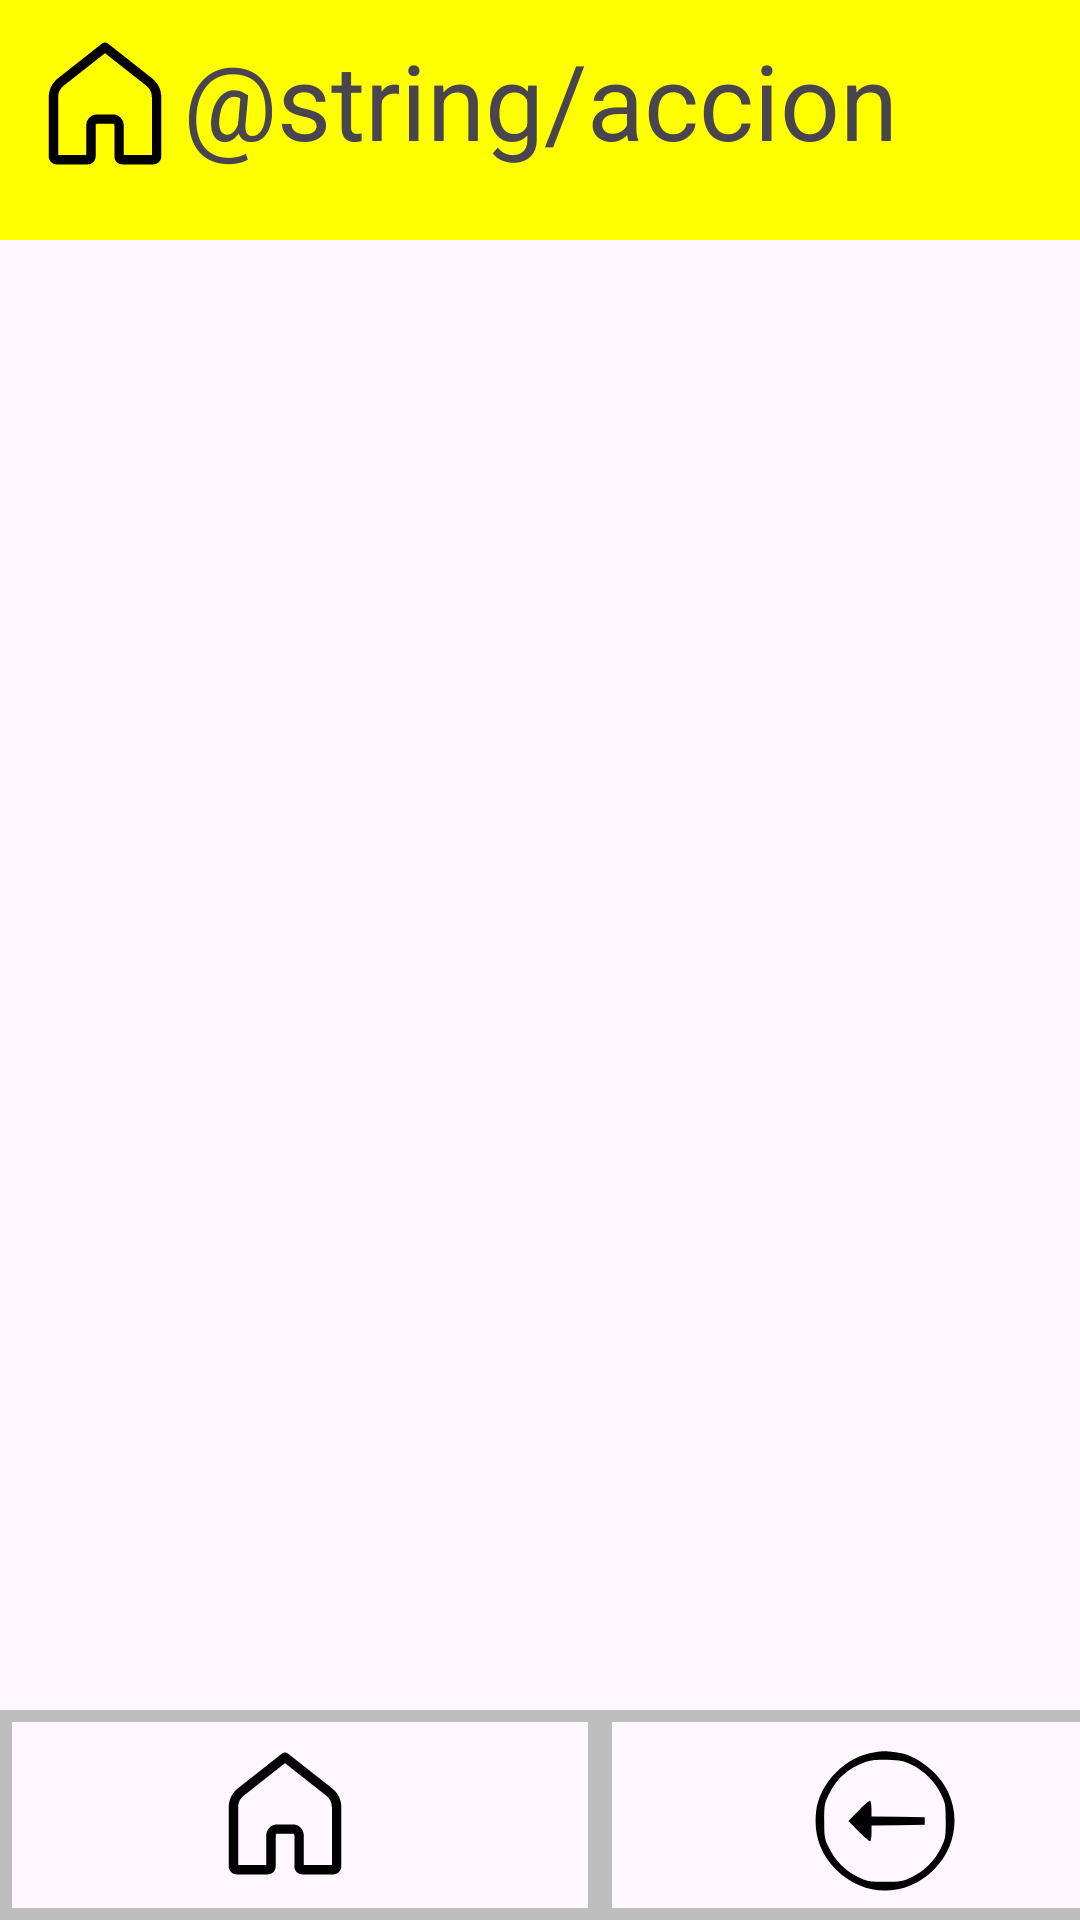

Icon click points for this 1080 x 1920 phone screenshot, format (x=x, y=y):
volver atras: (x=885, y=1821)
